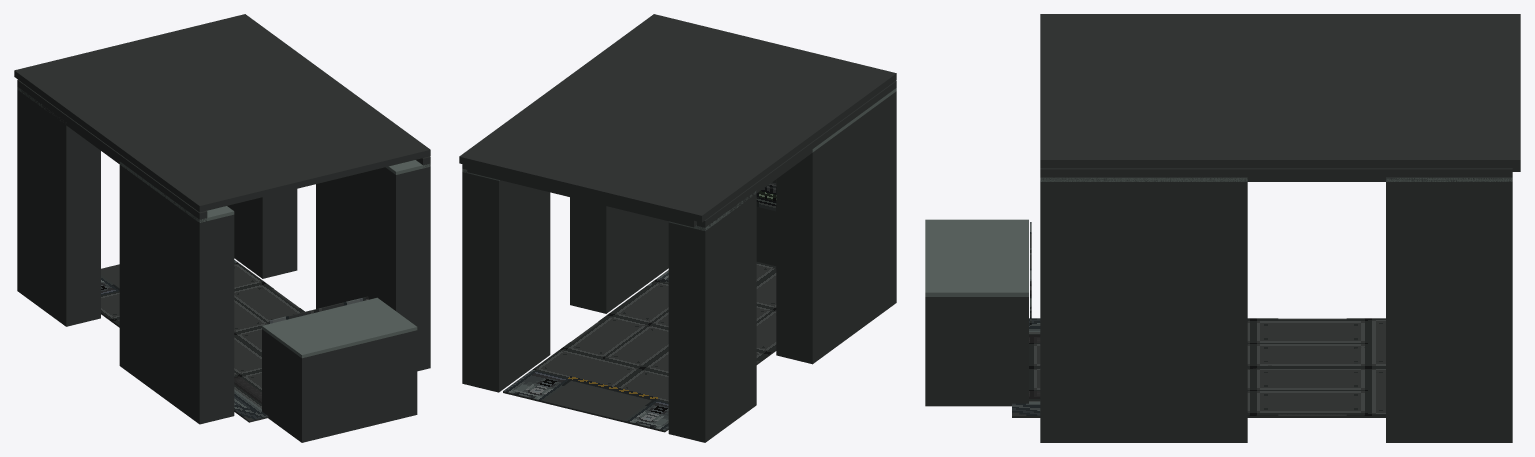
File: CMU3DInteriorCMUBlackfootChassis.glb
3 renders of one model, left to right at view 1: azimuth 30°, elevation 25°; view 2: azimuth 150°, elevation 25°; view 3: azimuth 270°, elevation 25°, orthographic. The views are drawn at different scales.
Parts seen in each view (by area): view 1: cabin roof, leftLowerHull, leftUpperHull, rightLowerHull, nose, ribbed cabin deck source finish, nose top trim, rightUpperHull, cabin roof rail, leftLowerHull top trim, ribbed cabin deck, pilot instruments; view 2: cabin roof, leftLowerHull, leftUpperHull, rightUpperHull, ribbed cabin deck source finish, rightLowerHull, ribbed cabin deck, cabin roof rail, roof cross rib, nose, pilot instruments; view 3: cabin roof, rightLowerHull, rightUpperHull, ribbed cabin deck source finish, nose, nose top trim, cabin roof rail, rightLowerHull top trim, ribbed cabin deck, rightUpperHull top trim.
Boxes of the visible parts, x1,y1,x2,y2 form: cabin roof: [14, 14, 430, 212]; leftLowerHull: [119, 165, 234, 424]; leftUpperHull: [17, 90, 100, 326]; rightLowerHull: [316, 166, 430, 371]; nose: [262, 329, 417, 442]; ribbed cabin deck source finish: [101, 260, 304, 419]; nose top trim: [262, 297, 417, 358]; rightUpperHull: [227, 189, 297, 278]; cabin roof rail: [17, 80, 207, 222]; leftLowerHull top trim: [119, 161, 234, 222]; ribbed cabin deck: [101, 264, 299, 422]; pilot instruments: [269, 296, 368, 323]; cabin roof: [459, 14, 896, 222]; leftLowerHull: [776, 91, 896, 364]; leftUpperHull: [668, 194, 756, 442]; rightUpperHull: [462, 172, 550, 392]; ribbed cabin deck source finish: [503, 262, 776, 430]; rightLowerHull: [570, 197, 668, 313]; ribbed cabin deck: [503, 321, 776, 432]; cabin roof rail: [697, 80, 896, 230]; roof cross rib: [467, 165, 696, 227]; nose: [756, 207, 776, 266]; pilot instruments: [756, 179, 776, 211]; cabin roof: [1040, 14, 1520, 168]; rightLowerHull: [1040, 182, 1247, 442]; rightUpperHull: [1386, 182, 1512, 442]; ribbed cabin deck source finish: [1012, 318, 1385, 415]; nose: [925, 297, 1028, 406]; nose top trim: [925, 219, 1028, 296]; cabin roof rail: [1040, 168, 1512, 181]; rightLowerHull top trim: [1040, 177, 1247, 181]; ribbed cabin deck: [1012, 318, 1385, 417]; rightUpperHull top trim: [1386, 177, 1512, 181].
Size of the model in its own units: 3 by 2.71 by 5.17.
4 materials, 2 textured.
